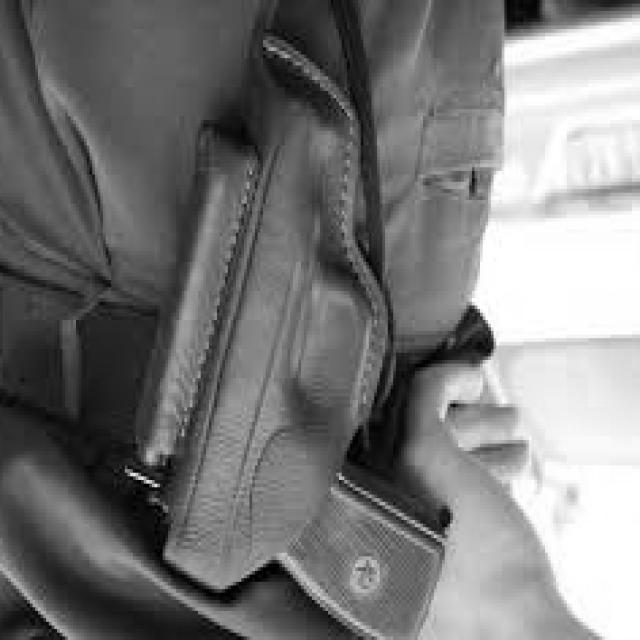gun: (95, 11, 466, 640)
